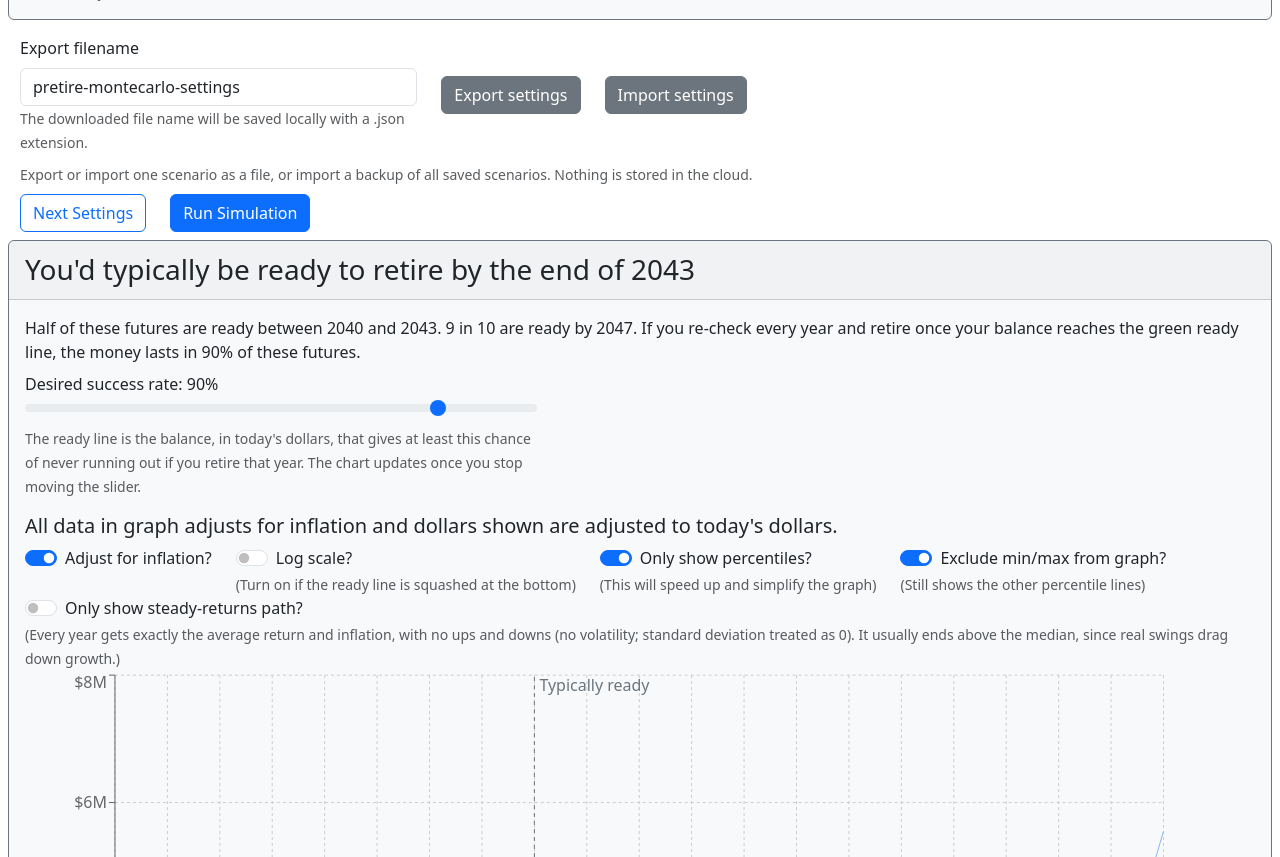
it: MonteCarloResultsCard › the slider and the form field are one setting
The width and height of the screenshot is (1280, 857).
(page scrolled)
Set the slider labelled "Desired success rate: 90%" to "75": (286,408) [25, 396, 537, 420]
(page scrolled)
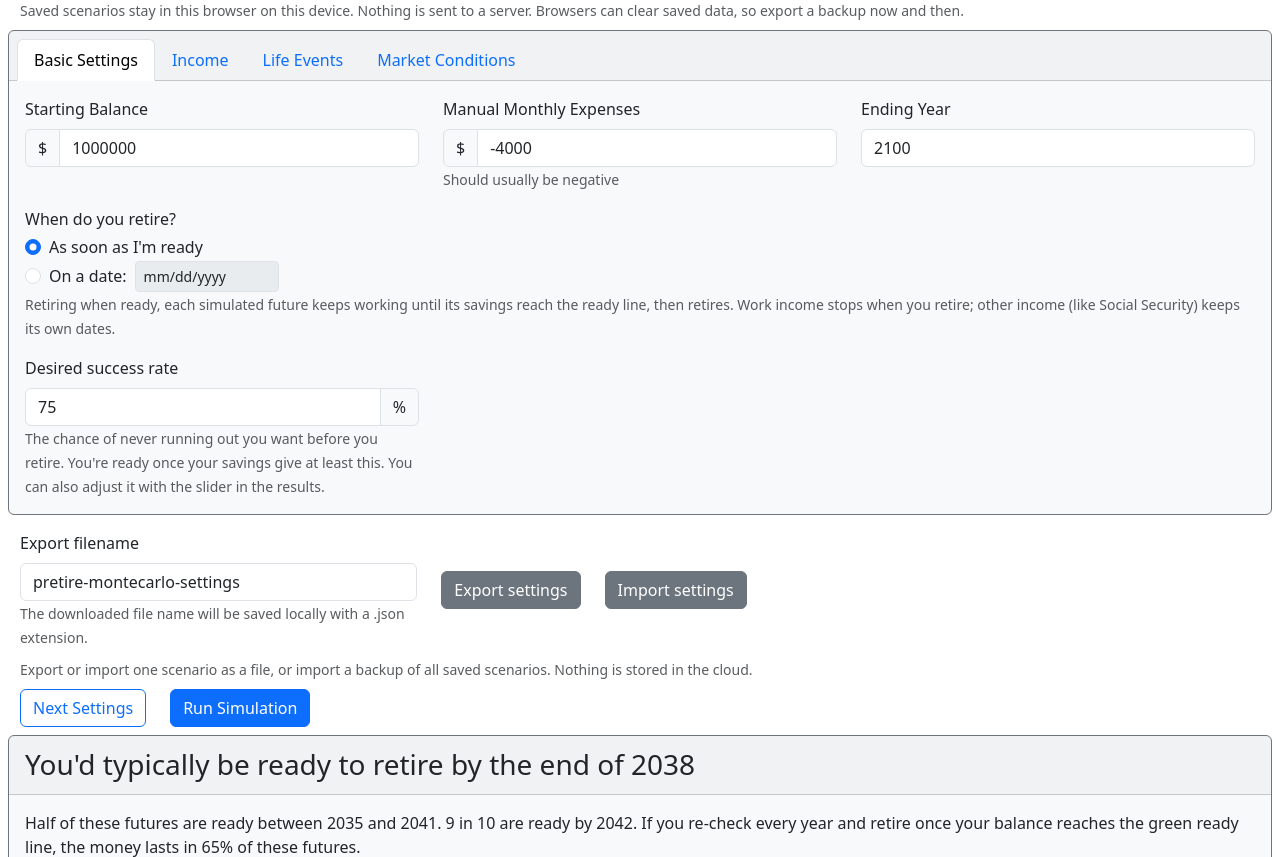
Expected: the number field labelled "Desired success rate" holds "75"
Replace the text in the number field labelled "Desired success rate" with "82": (203,407) [25, 388, 381, 426]
(page scrolled)
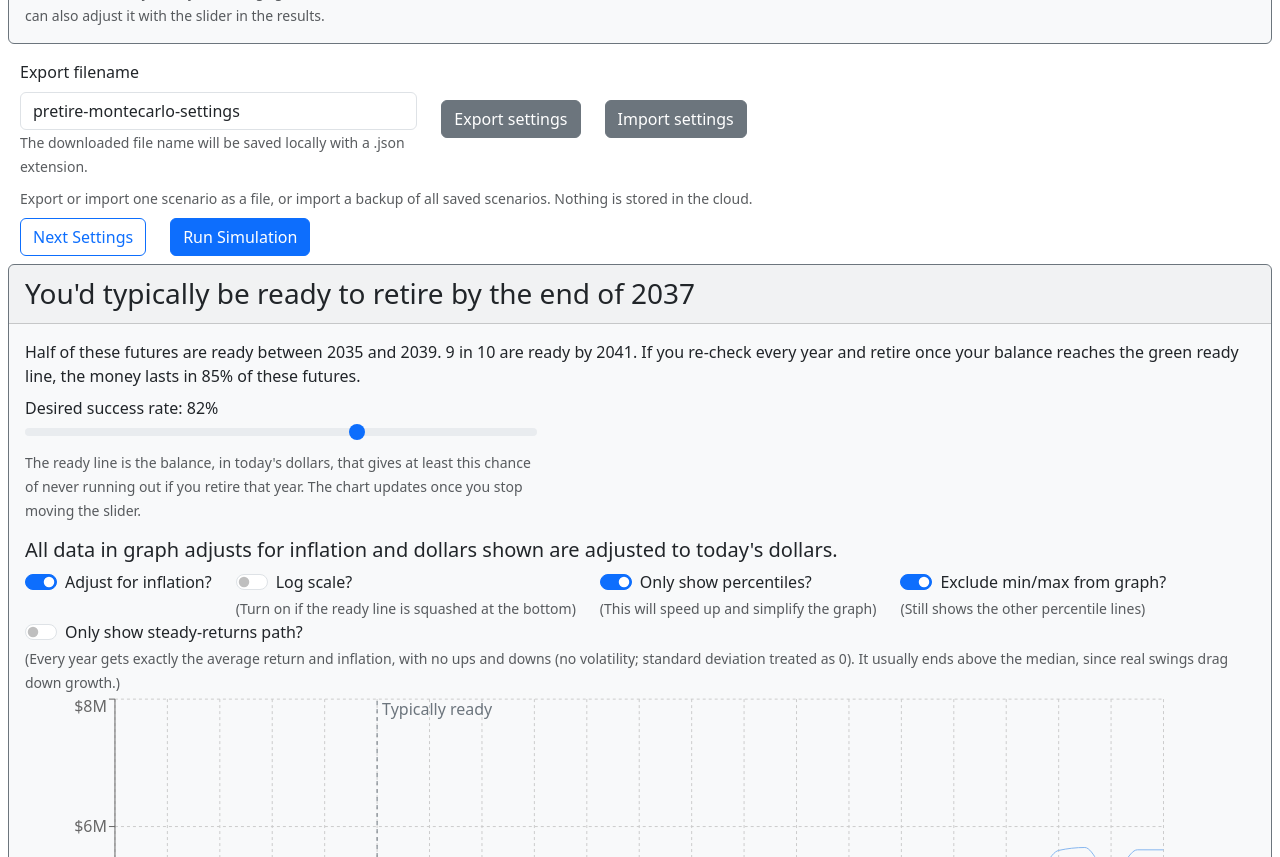
Expected: the slider labelled "Desired success rate: 82%" holds "82", [25, 420, 537, 444]
Expected: the text "Desired success rate: 82%" is shown, [25, 396, 218, 420]
